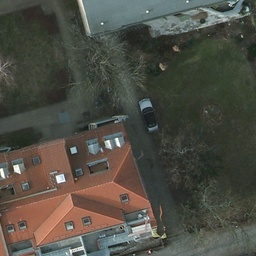car: (138, 98, 159, 132)
